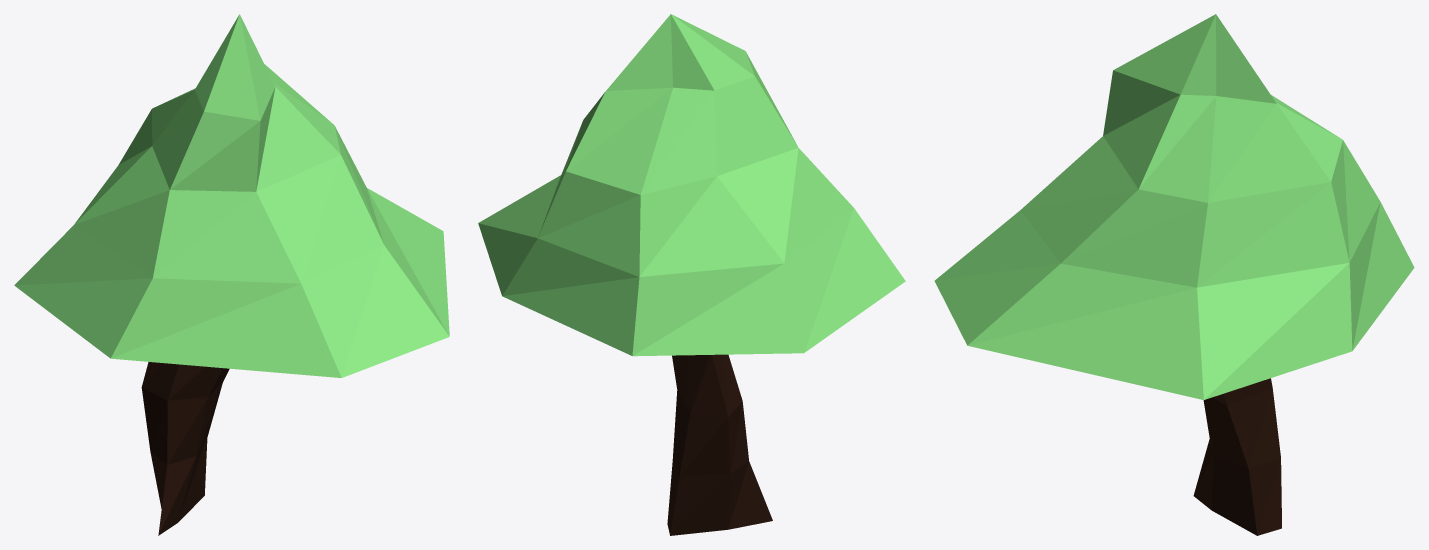
File: Tree Type 3.FBX
The picture shows the model from 3 angles, left to right: view 1: azimuth 30°, elevation 25°; view 2: azimuth 150°, elevation 25°; view 3: azimuth 270°, elevation 25°; orthographic projection. The views are drawn at different scales.
Parts seen in each view (by area): view 1: Cone001; view 2: Cone001; view 3: Cone001.
Boxes of the visible parts, x1=… form: Cone001: x1=14, y1=14, x2=449, y2=535; Cone001: x1=478, y1=14, x2=905, y2=535; Cone001: x1=934, y1=14, x2=1414, y2=535.
Bounding box in the file's own units: 55.51 × 68.63 × 56.33.
